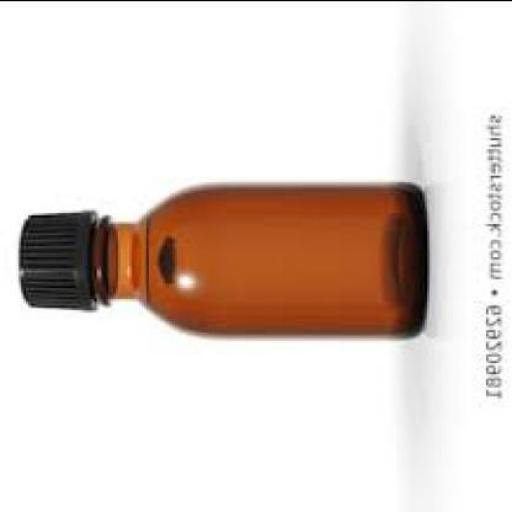glass: (90, 176, 424, 336)
plastic: (16, 206, 96, 306)
